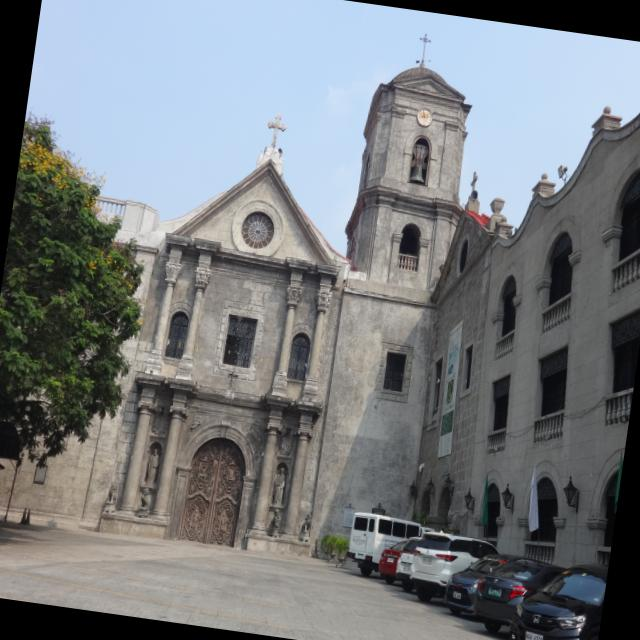San Agustin Church: (29, 41, 481, 587)
